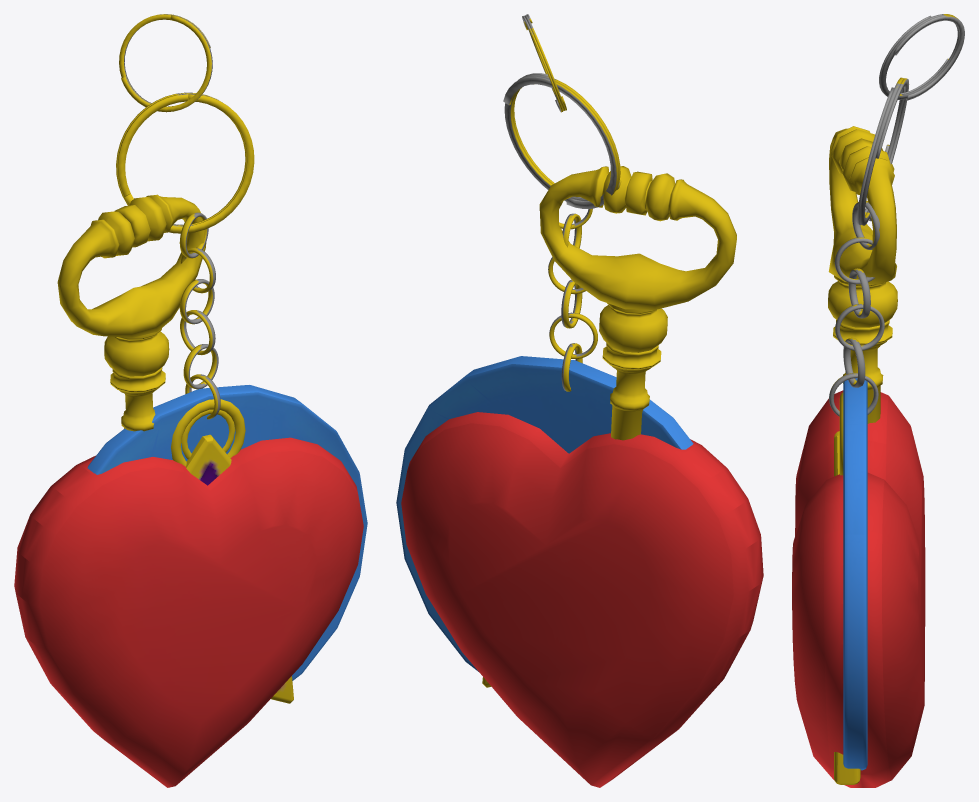
File: keychain.fbx
3 views of the same model, side by side, from view 1: azimuth 30°, elevation 25°; view 2: azimuth 150°, elevation 25°; view 3: azimuth 270°, elevation 25° (orthographic). The views are drawn at different scales.
Visible parts, largest first — view 1: keychain; view 2: keychain; view 3: keychain.
Boxes of the visible parts, x1,y1,x2,y2 form: keychain: [14, 14, 367, 787]; keychain: [396, 14, 763, 787]; keychain: [792, 14, 964, 787].
Bounding box in the file's own units: 3.71 × 7.69 × 1.52.
